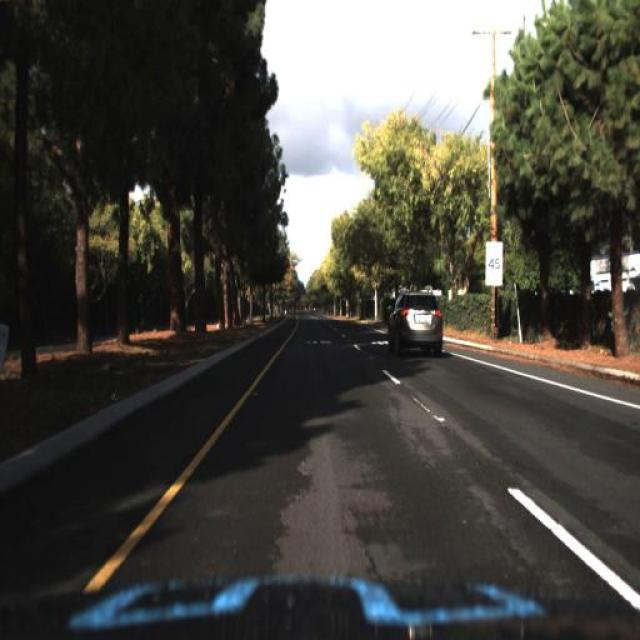car: (382, 289, 448, 360)
